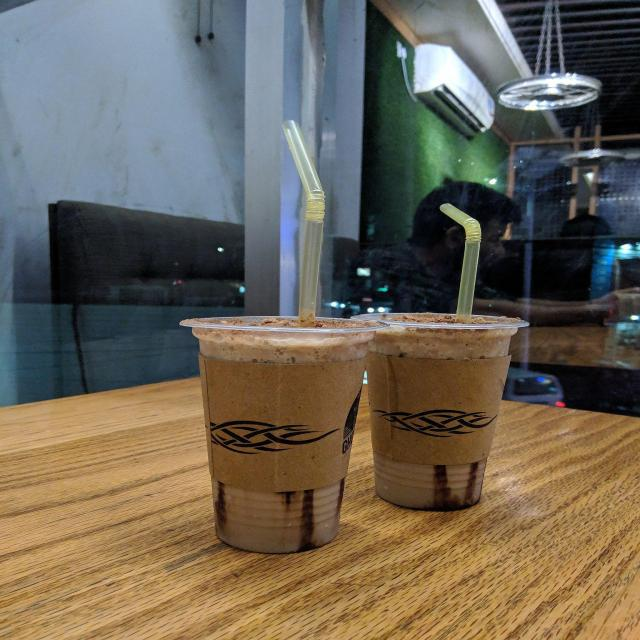cup-disposable: (179, 315, 376, 555), (362, 312, 524, 512)
